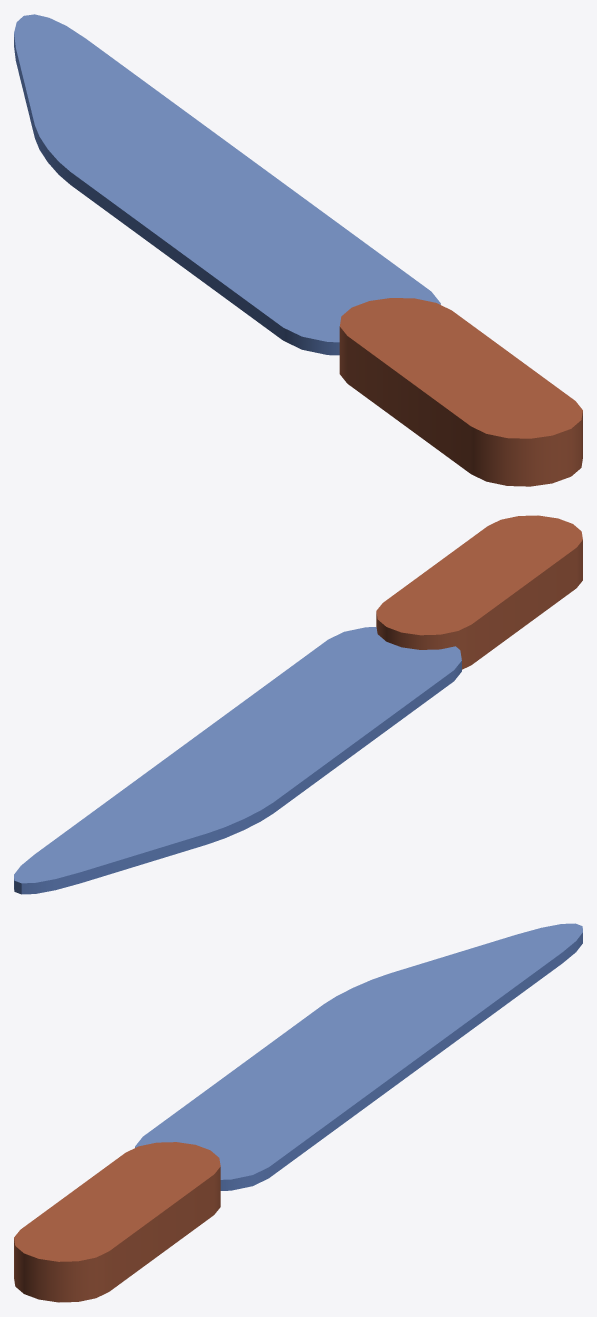
Rendered from Knife A.fbx.
3 renders of one model, top to bottom at view 1: azimuth 30°, elevation 25°; view 2: azimuth 150°, elevation 25°; view 3: azimuth 330°, elevation 25°, orthographic. The views are drawn at different scales.
Parts seen in each view (by area): view 1: Knife.001; view 2: Knife.001; view 3: Knife.001.
Part boxes in pixels (x1,y1,x2,y2): Knife.001: (14, 14, 582, 486); Knife.001: (14, 515, 582, 894); Knife.001: (14, 923, 582, 1302).
Bounding box in the file's own units: 0.1381 × 0.0426 × 0.9365.
